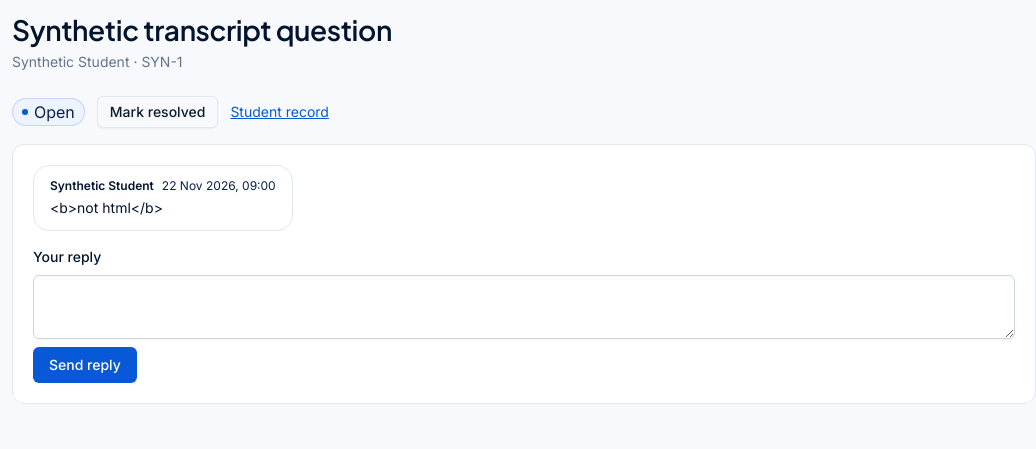
Test: staff conversation › renders message text as text and lets responders resolve; a resolved thread blocks replies
Expected: the text "<b>not html</b>" is shown, x1=50 y1=199 x2=163 y2=216
Expected: the text box labelled "Your reply" is enabled, x1=33 y1=275 x2=1015 y2=339
Click the button "Mark resolved" at (158, 112), box x1=97 y1=96 x2=218 y2=128
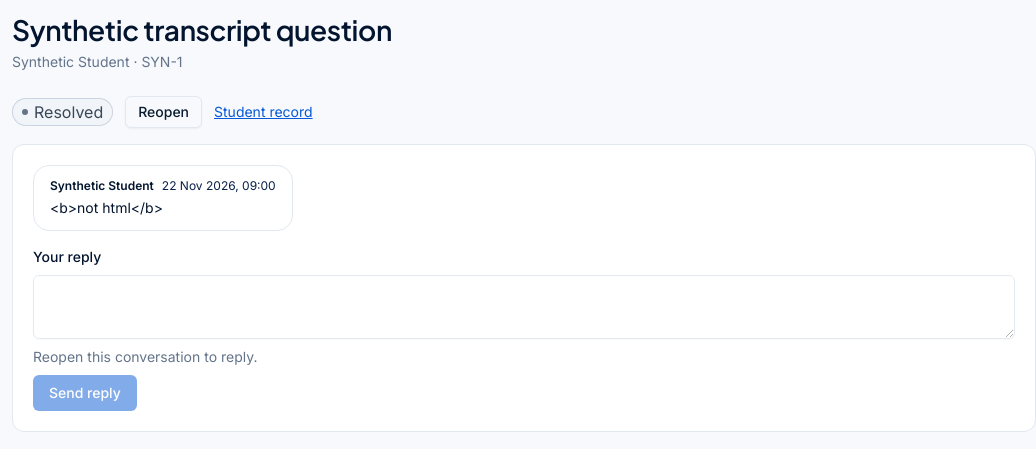
Expected: the text box labelled "Your reply" is disabled, x1=33 y1=275 x2=1015 y2=339
Expected: the button "Reopen" is shown, x1=125 y1=96 x2=202 y2=128
Expected: the text "Reopen this conversation to reply." is shown, x1=33 y1=348 x2=258 y2=365
